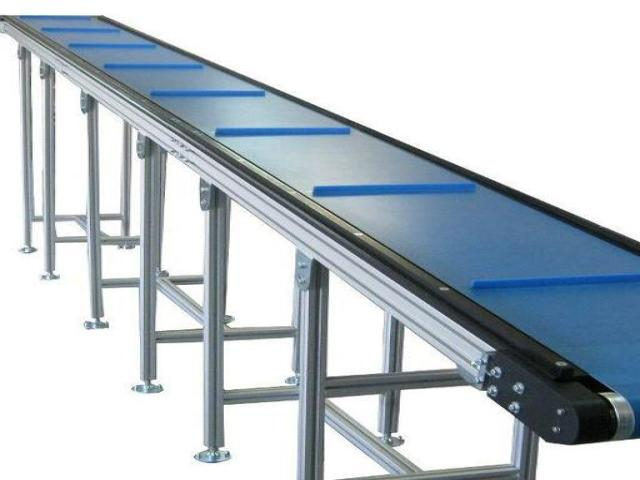conveyor: (0, 11, 638, 468)
